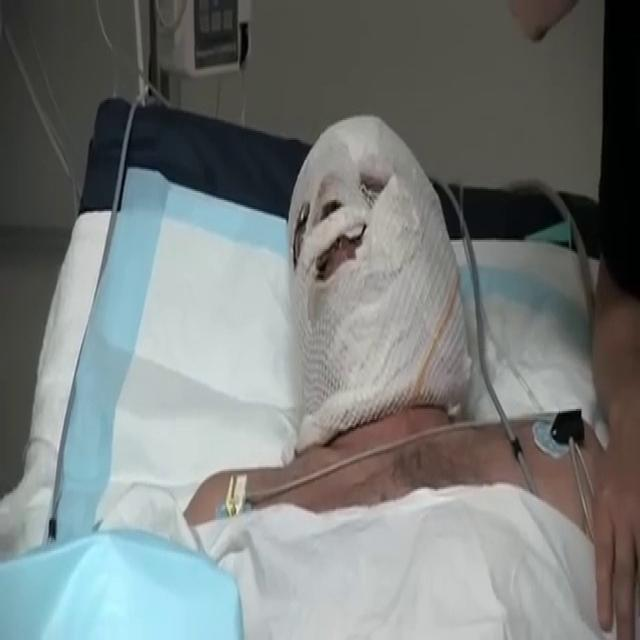monitor: (153, 0, 253, 78), (192, 0, 240, 67)
patient: (180, 109, 636, 638)
